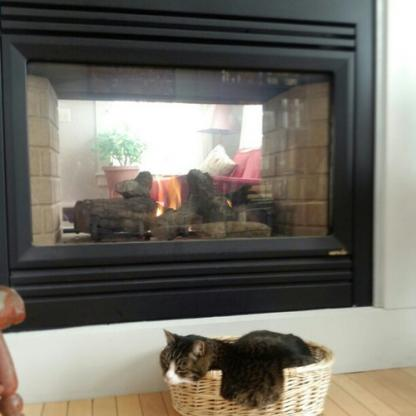Target: (157, 321, 327, 408)
